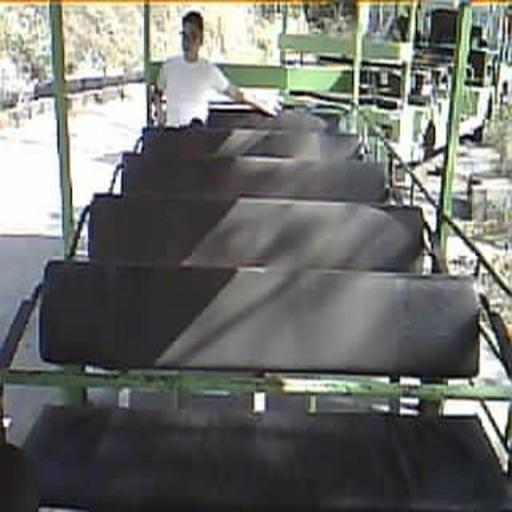persona: (152, 10, 277, 131)
